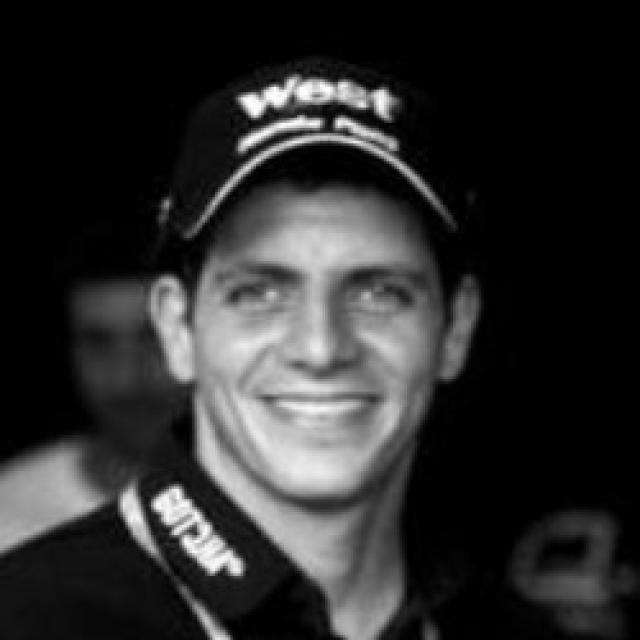real: (176, 168, 476, 499), (203, 252, 426, 336)
